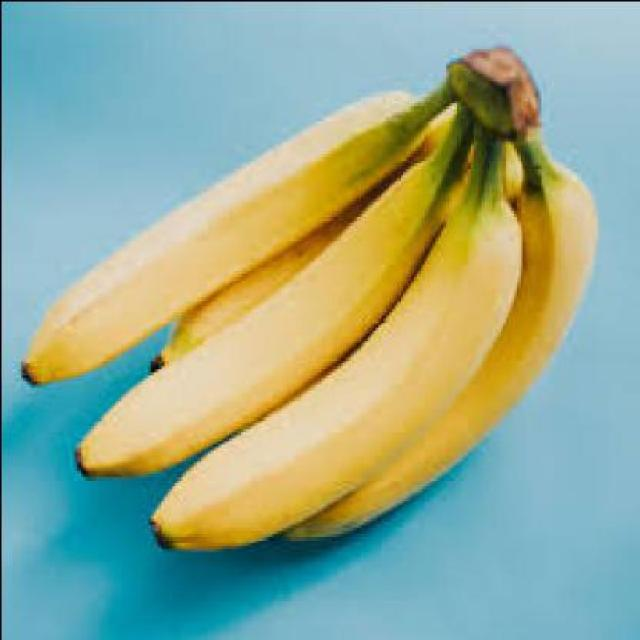BIODEGRADABLE: (76, 41, 542, 472), (151, 119, 527, 550), (279, 130, 599, 536), (22, 96, 447, 387), (155, 111, 450, 374)
